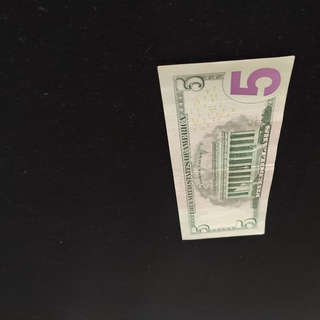5USDBack: (156, 55, 295, 241)
